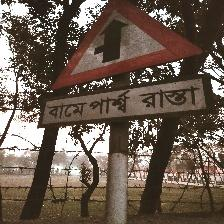Side-road-left: (40, 0, 211, 131)
